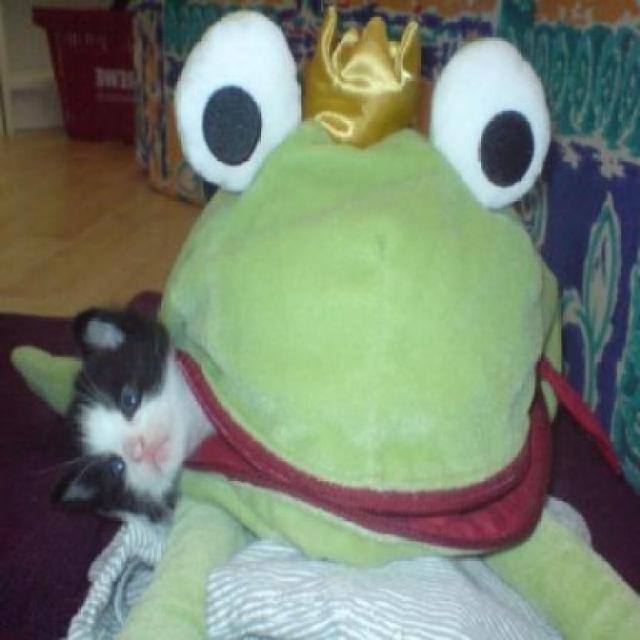cat: (41, 293, 238, 547)
